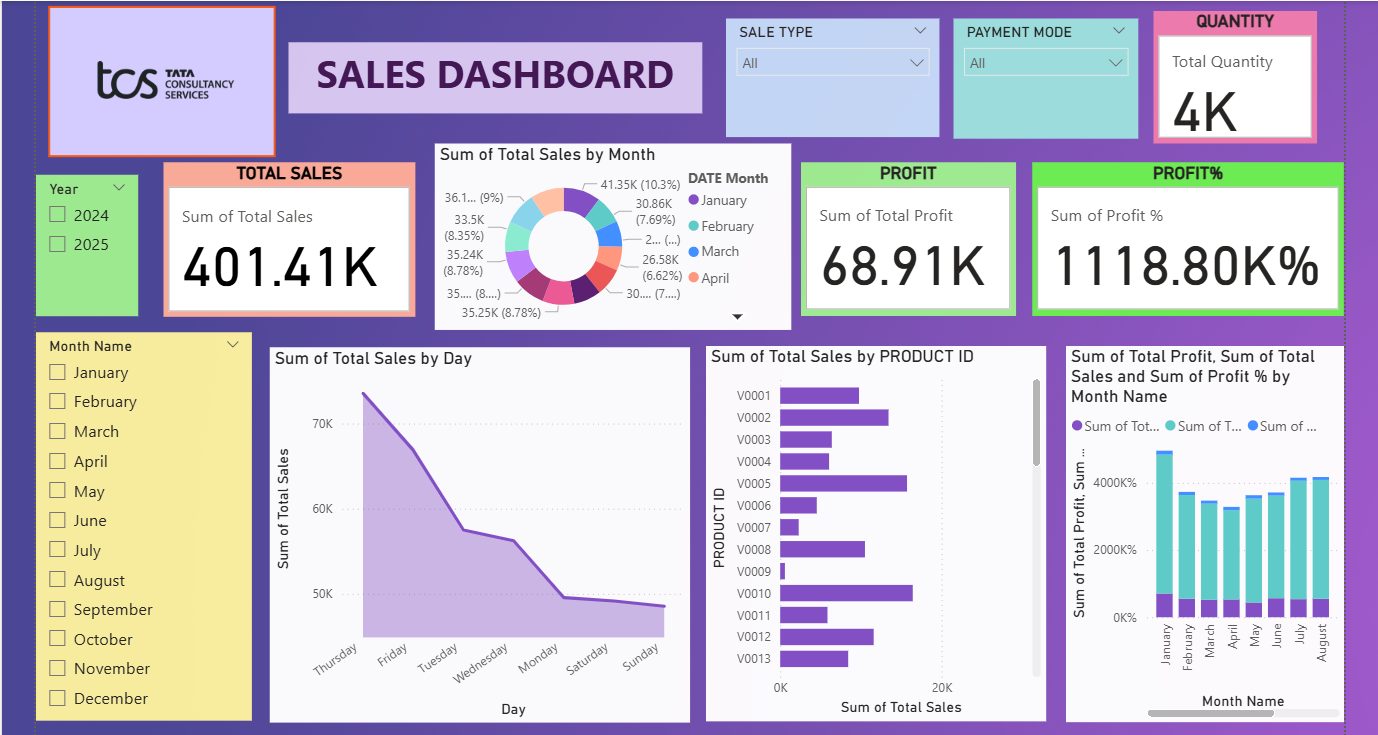

This screenshot's page, from the dashboard's own definition file:
{"tool":"powerbi","page":{"name":"Page 1","canvas":[1280,720],"ordinal":0},"visuals":[{"type":"textbox","box":[247,40.4,404.8,69.7],"z":0},{"type":"slicer","fields":{"Values":["InputData.PAYMENT MODE"]},"box":[897.6,17.1,181,117.4],"z":1000},{"type":"cardVisual","title":"TOTAL SALES","fields":{"Data":["Sum(InputData.Total Sales)"]},"box":[125,157.5,246.2,151.2],"z":2000},{"type":"cardVisual","title":"QUANTITY","fields":{"Data":["InputData.Total Quantity"]},"box":[1093.2,9.8,160.2,129.6],"z":3000},{"type":"cardVisual","title":"PROFIT","fields":{"Data":["Sum(InputData.Total Profit)"]},"box":[748.8,157.5,210,150],"z":4000},{"type":"cardVisual","title":"PROFIT%","fields":{"Data":["Sum(InputData.Profit %)"]},"box":[975,157.5,305,150],"z":5000},{"type":"slicer","fields":{"Values":["InputData.Month Name"]},"box":[0,324.1,211.6,380.3],"z":6000},{"type":"stackedAreaChart","fields":{"Y":["Sum(InputData.Total Sales)"],"Category":["InputData.Day"]},"box":[228.7,338.7,410.9,366.8],"z":7000},{"type":"clusteredBarChart","fields":{"Category":["MasterData.PRODUCT ID","InputData.Month Name"],"Y":["Sum(InputData.Total Sales)"]},"box":[655.4,337.5,332.6,366.8],"z":8000},{"type":"columnChart","fields":{"Category":["InputData.Month Name"],"Y":["Sum(InputData.Total Profit)","Sum(InputData.Total Sales)","Sum(InputData.Profit %)"]},"box":[1007.6,337.5,272.7,368.1],"z":9000},{"type":"slicer","fields":{"Values":["InputData.DATE.Variation.Date Hierarchy.Year"]},"box":[0,170,100.3,138.2],"z":10000},{"type":"slicer","fields":{"Values":["InputData.SALE TYPE"]},"box":[675,17.1,209.1,116.2],"z":11000},{"type":"donutChart","fields":{"Category":["InputData.DATE.Variation.Date Hierarchy.Month"],"Y":["Sum(InputData.Total Sales)"]},"box":[390.1,139.4,348.5,182.2],"z":12000},{"type":"image","box":[0,0,247,157.7],"z":13000}]}

Visuals, with their boxes in screenshot pixels (x1, y1, x2, y2):
textbox: (x1=292, y1=44, x2=700, y2=115)
slicer - InputData.PAYMENT MODE: (x1=947, y1=21, x2=1130, y2=139)
"TOTAL SALES" cardVisual: (x1=169, y1=162, x2=417, y2=315)
"QUANTITY" cardVisual: (x1=1145, y1=13, x2=1306, y2=144)
"PROFIT" cardVisual: (x1=798, y1=162, x2=1009, y2=313)
"PROFIT%" cardVisual: (x1=1025, y1=162, x2=1333, y2=313)
slicer - InputData.Month Name: (x1=43, y1=330, x2=256, y2=713)
stackedAreaChart - Sum(InputData.Total Sales) x InputData.Day: (x1=274, y1=345, x2=688, y2=714)
clusteredBarChart - MasterData.PRODUCT ID x InputData.Month Name: (x1=703, y1=344, x2=1039, y2=713)
columnChart - InputData.Month Name x Sum(InputData.Total Profit): (x1=1058, y1=344, x2=1333, y2=715)
slicer - InputData.DATE.Variation.Date Hierarchy.Year: (x1=43, y1=175, x2=144, y2=314)
slicer - InputData.SALE TYPE: (x1=723, y1=21, x2=934, y2=138)
donutChart - InputData.DATE.Variation.Date Hierarchy.Month x Sum(InputData.Total Sales): (x1=436, y1=144, x2=787, y2=328)
image: (x1=43, y1=4, x2=292, y2=162)
